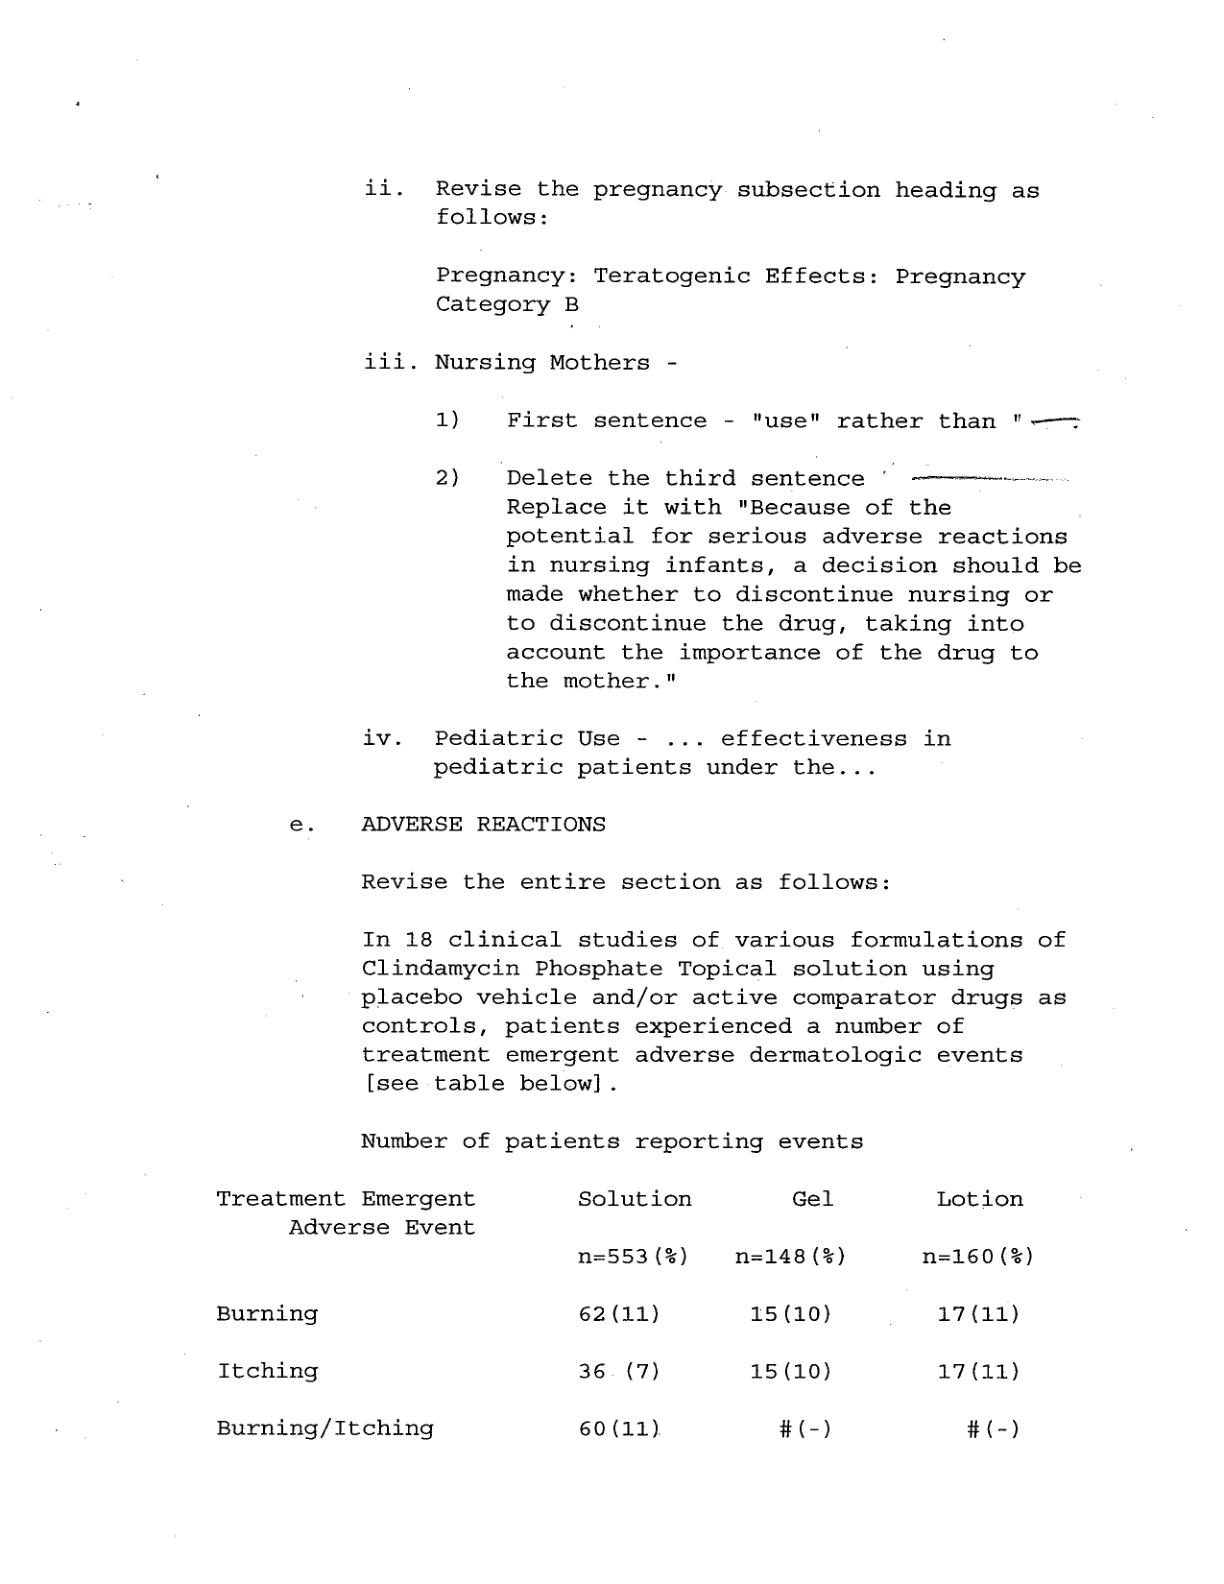nolines: (211, 1185, 1032, 1443)
